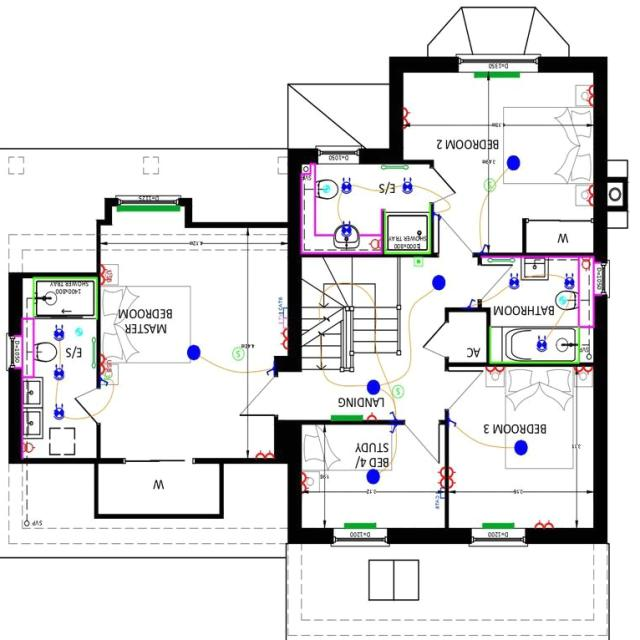Cat 6 Data Socket: (275, 298, 286, 326)
Ceiling Mounted Continuous Extract Fan With Boost Mode Activated By Light Switch: (318, 180, 334, 196), (554, 293, 570, 307), (74, 323, 84, 341)
Co-Ax TV Socket: (276, 317, 290, 330)
Double Socket: (397, 103, 414, 134), (578, 182, 595, 212), (431, 462, 446, 495), (580, 76, 594, 109), (298, 470, 312, 500), (531, 518, 557, 531), (569, 365, 593, 379), (446, 463, 458, 489), (481, 364, 509, 375), (253, 449, 276, 462), (277, 327, 288, 354)
Light Switch: (445, 408, 463, 438), (378, 407, 407, 423), (381, 426, 405, 439), (462, 296, 481, 310), (475, 242, 491, 256), (432, 206, 443, 226), (265, 362, 273, 383), (100, 376, 110, 390)
Low Energy Downlighter: (336, 174, 360, 200), (395, 174, 416, 203), (559, 266, 576, 296), (332, 220, 356, 240), (51, 361, 67, 388), (531, 332, 549, 356), (502, 272, 520, 296), (48, 401, 66, 424), (48, 326, 68, 346)
Low Energy Pendant Light: (422, 275, 453, 299), (358, 466, 386, 490), (181, 341, 204, 368), (504, 153, 526, 175), (508, 440, 530, 460), (361, 378, 384, 397)
Mains Wired Smoke Detector: (388, 382, 407, 401), (230, 342, 247, 363), (481, 177, 497, 196)
Programmable Room Thermostat: (407, 258, 429, 272)
Radiator: (113, 205, 182, 216), (467, 73, 526, 81), (475, 520, 522, 530), (337, 522, 381, 532), (328, 414, 363, 424)
Shaver Socket: (366, 231, 383, 253), (19, 439, 38, 458), (579, 256, 591, 276)
Single Socket: (364, 410, 377, 424)
USB Double Socket: (96, 262, 113, 288), (97, 351, 112, 376)
